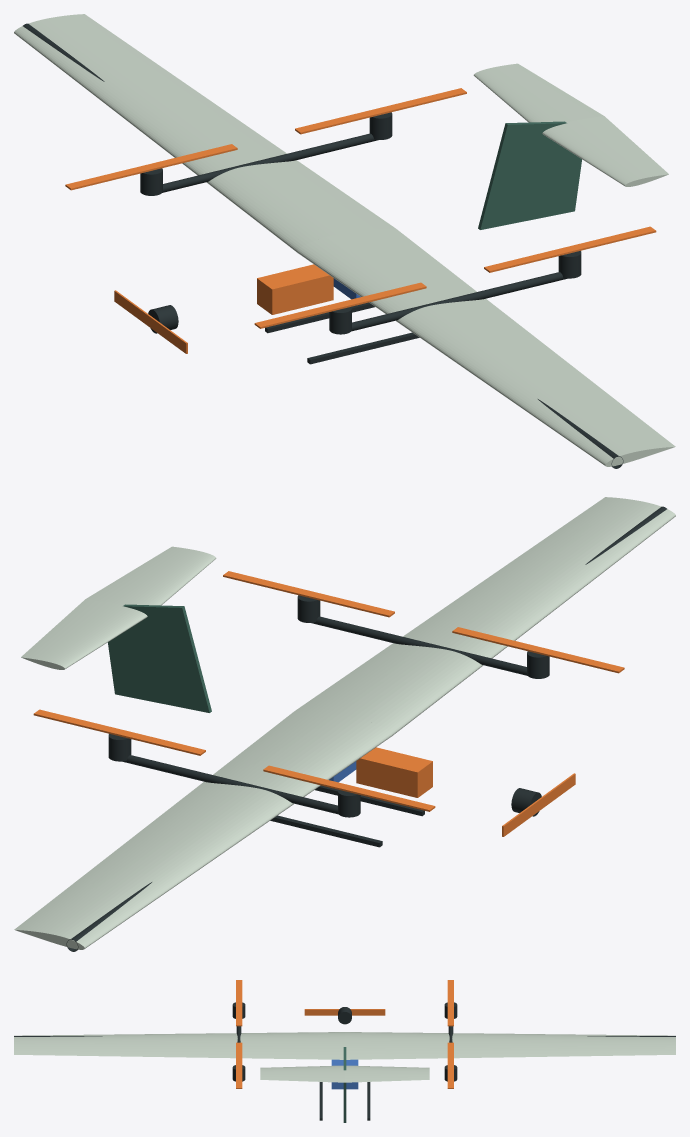
File: 02-internal.glb
The picture shows the model from 3 angles, top to bottom: view 1: azimuth 30°, elevation 25°; view 2: azimuth 150°, elevation 25°; view 3: azimuth 270°, elevation 25°; orthographic projection. The views are drawn at different scales.
Visible parts, largest first — view 1: wing-1, wing1, fin, tail-1, tail1, battery, boom-1, boom1, prop_-1_180.0, prop_1_180.0, prop_-1_740.0, prop_1_740.0 (+3 smaller); view 2: wing1, wing-1, fin, tail1, tail-1, battery, boom1, boom-1, prop_1_180.0, prop_-1_180.0, prop_1_740.0, prop_-1_740.0 (+3 smaller); view 3: wing-1, wing1, tail-1, tail1, cruise_prop, payload, prop_-1_180.0, prop_-1_740.0, prop_1_180.0, prop_1_740.0, fin.
Boxes of the visible parts, left/top/right/bottom form: wing-1: left=297, top=228, right=675, bottom=466; wing1: left=14, top=14, right=394, bottom=252; fin: left=478, top=121, right=581, bottom=229; tail-1: left=542, top=116, right=668, bottom=186; tail1: left=473, top=63, right=603, bottom=122; battery: left=257, top=264, right=333, bottom=314; boom-1: left=352, top=272, right=567, bottom=331; boom1: left=162, top=133, right=378, bottom=192; prop_-1_180.0: left=254, top=282, right=426, bottom=328; prop_1_180.0: left=65, top=144, right=237, bottom=190; prop_-1_740.0: left=484, top=226, right=656, bottom=272; prop_1_740.0: left=295, top=88, right=466, bottom=134; wing1: left=14, top=711, right=392, bottom=949; wing-1: left=295, top=497, right=675, bottom=735; fin: left=108, top=604, right=211, bottom=712; tail1: left=21, top=599, right=147, bottom=669; tail-1: left=86, top=546, right=216, bottom=605; battery: left=356, top=747, right=432, bottom=797; boom1: left=122, top=755, right=337, bottom=814; boom-1: left=311, top=616, right=527, bottom=675; prop_1_180.0: left=263, top=765, right=435, bottom=811; prop_-1_180.0: left=452, top=627, right=624, bottom=673; prop_1_740.0: left=33, top=709, right=205, bottom=755; prop_-1_740.0: left=223, top=571, right=394, bottom=617; wing-1: left=14, top=1032, right=344, bottom=1059; wing1: left=345, top=1032, right=675, bottom=1059; tail-1: left=260, top=1065, right=344, bottom=1082; tail1: left=345, top=1065, right=429, bottom=1082; cruise_prop: left=304, top=1009, right=385, bottom=1015; payload: left=331, top=1059, right=358, bottom=1089; prop_-1_180.0: left=236, top=980, right=242, bottom=1026; prop_-1_740.0: left=236, top=1042, right=242, bottom=1088; prop_1_180.0: left=447, top=980, right=453, bottom=1026; prop_1_740.0: left=447, top=1042, right=453, bottom=1088; fin: left=343, top=1047, right=346, bottom=1122.
Bounding box in the file's own units: 1109 × 398 × 2500.
